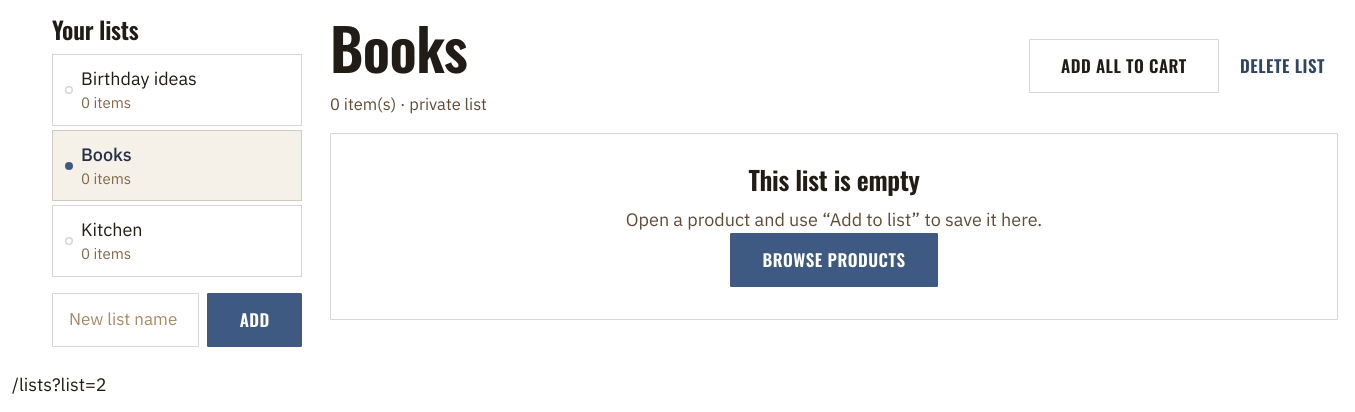
Test case: Lists page › selects a list from the sidebar and keeps the URL in sync
Check: the heading "Books" is shown, box [330,16,487,80]
Click the button "Kitchen 0 items" at (177, 241), box [52,205,302,277]
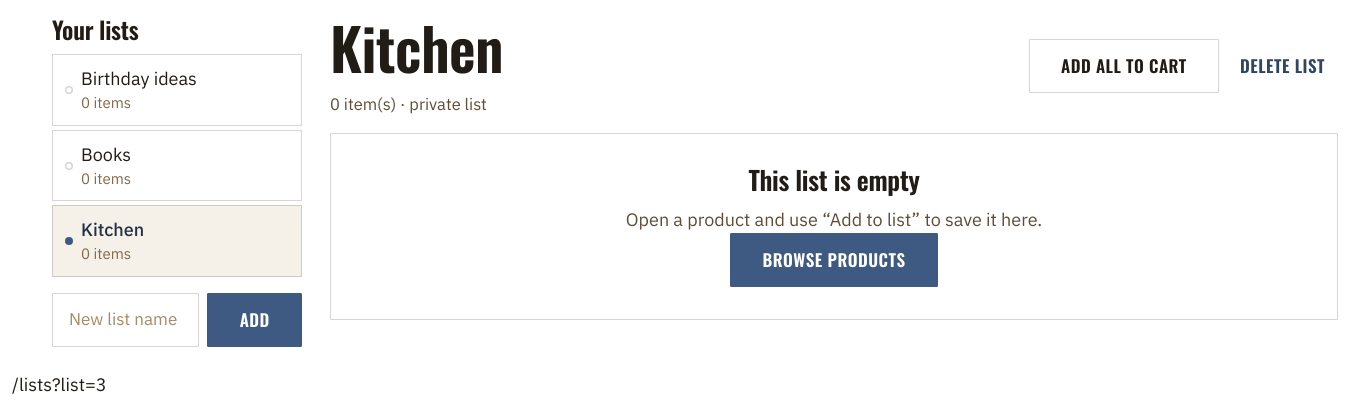
Check: the heading "Kitchen" is shown, box [330,16,503,80]
Check: the text with test id "location" reads "/lists?list=3", box [12,373,107,396]
